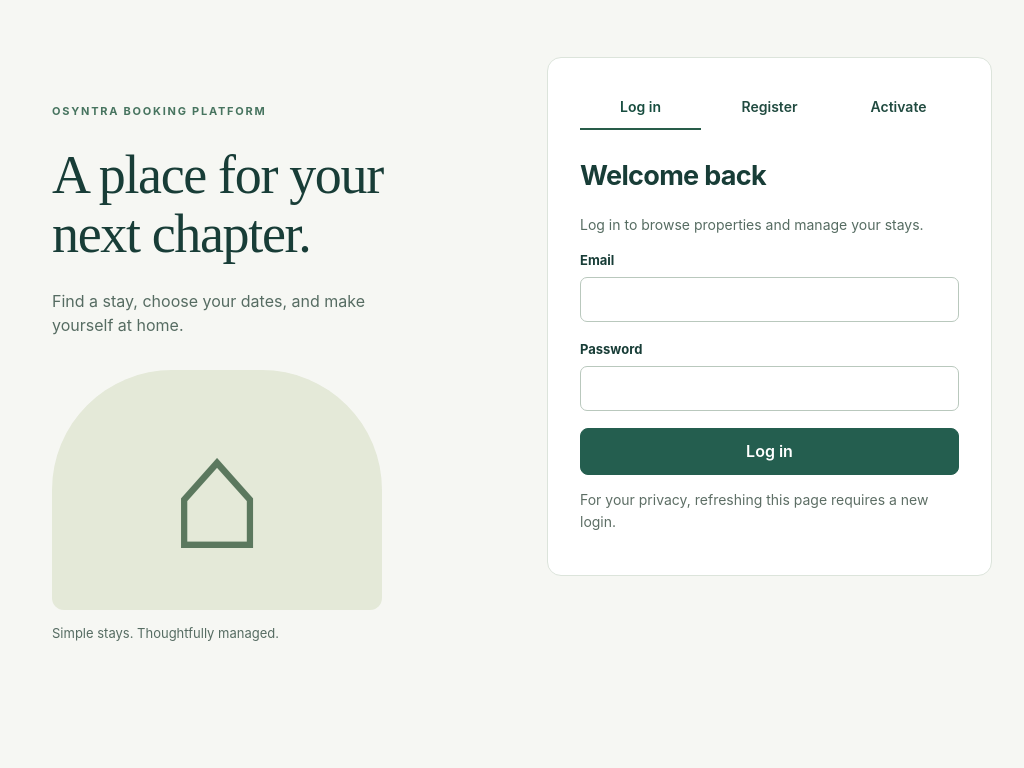
Test case: uses the authenticated ADMIN type without forbidden role probes
Step 1. Type "a@example.com" into the field labelled "Email" → (770, 300), box 580,277 -> 959,322
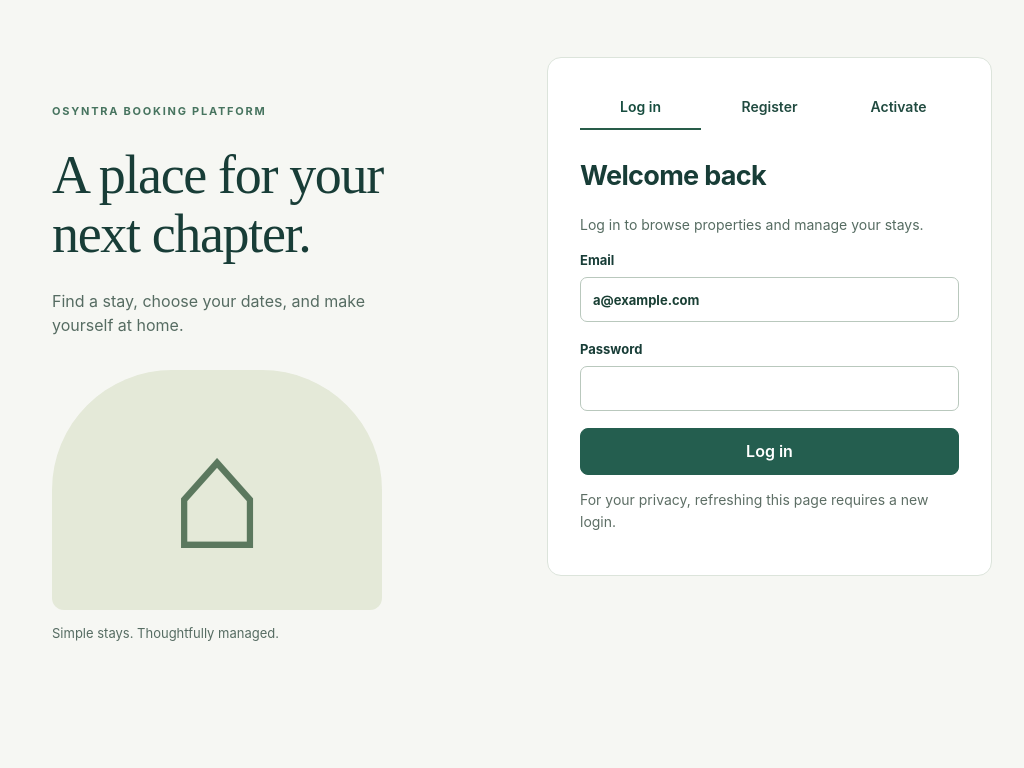
Step 2. Type "ExamplePass1!" into the password field labelled "Password" → (770, 389), box 580,366 -> 959,412
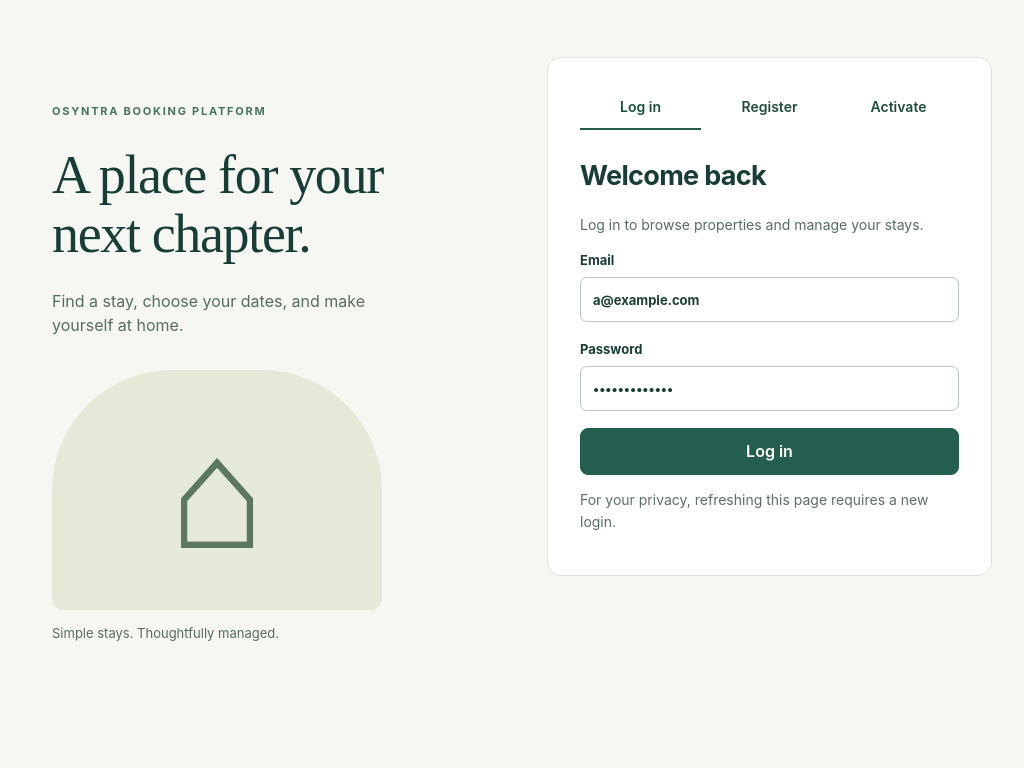
Step 3. Click the button "Log in" below "Password" → (770, 452), box 580,428 -> 959,475
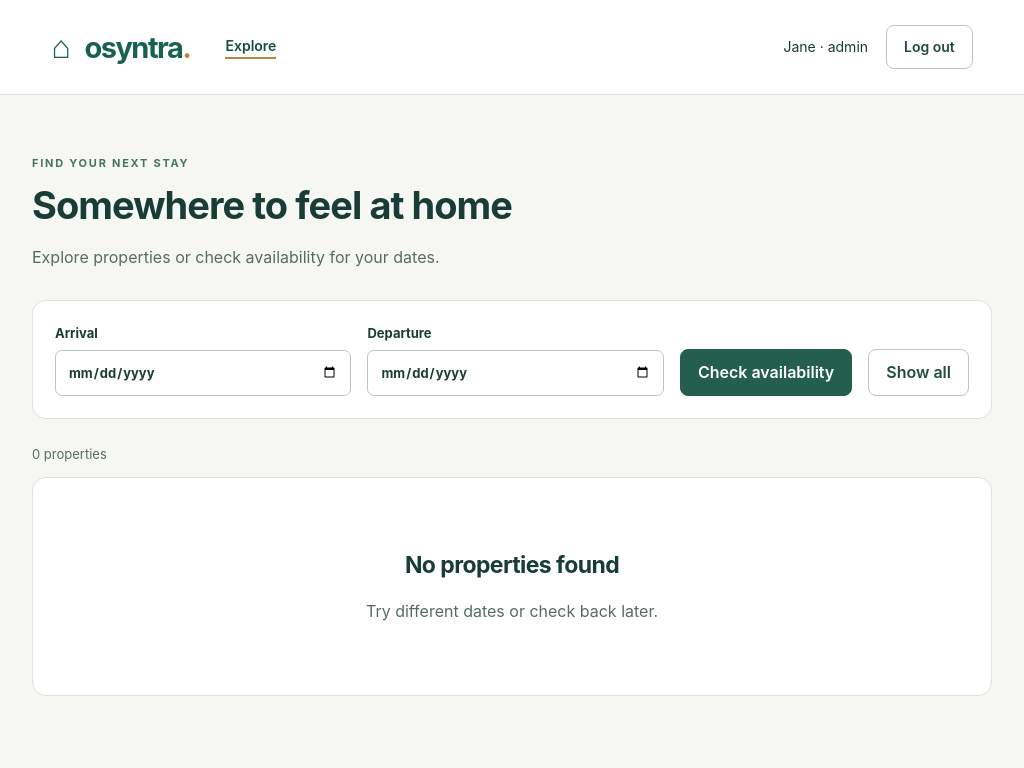
Expected: the button "Log out" is shown, 886,25 -> 973,69
